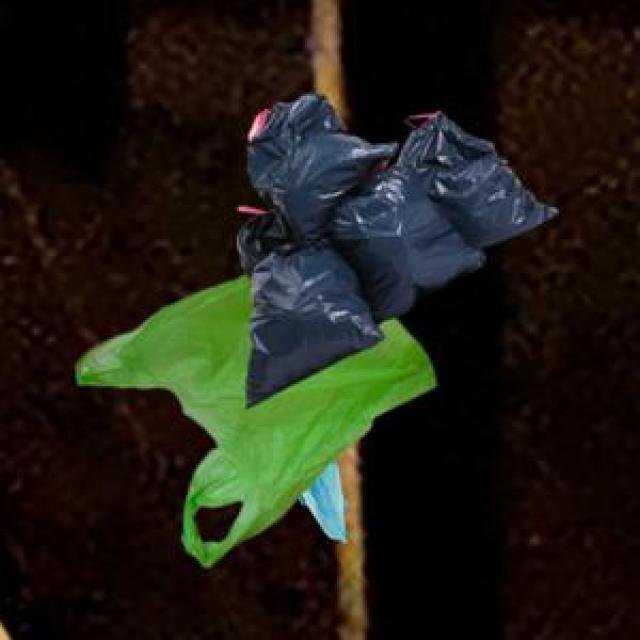miscellaneous trash: (233, 90, 553, 403)
